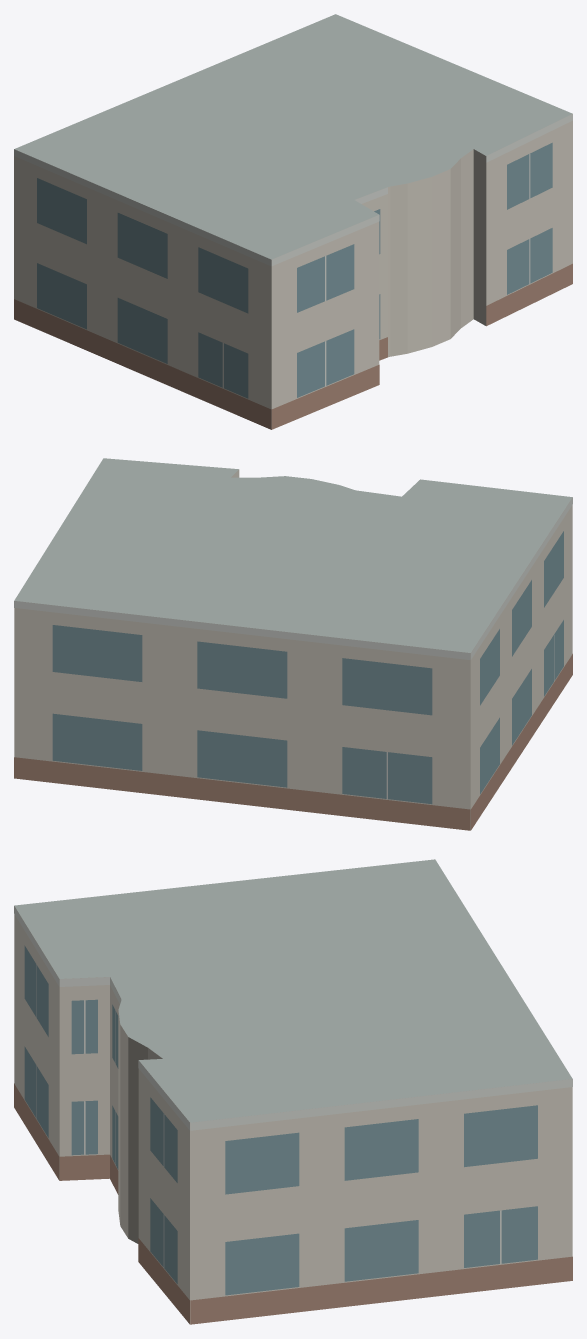
File: survey-upis-32614484.glb
3 views of the same model, one above another, from view 1: azimuth 30°, elevation 25°; view 2: azimuth 150°, elevation 25°; view 3: azimuth 270°, elevation 25° (orthographic). The views are drawn at different scales.
Visible parts, largest first — view 1: survey-upis-32614484.tmp; view 2: survey-upis-32614484.tmp; view 3: survey-upis-32614484.tmp.
Part boxes in pixels (left/top/right/bottom): survey-upis-32614484.tmp: left=14, top=14, right=572, bottom=429; survey-upis-32614484.tmp: left=14, top=458, right=572, bottom=830; survey-upis-32614484.tmp: left=14, top=859, right=572, bottom=1324.
Size of the model in its own units: 17.09 by 6.1 by 15.31.
